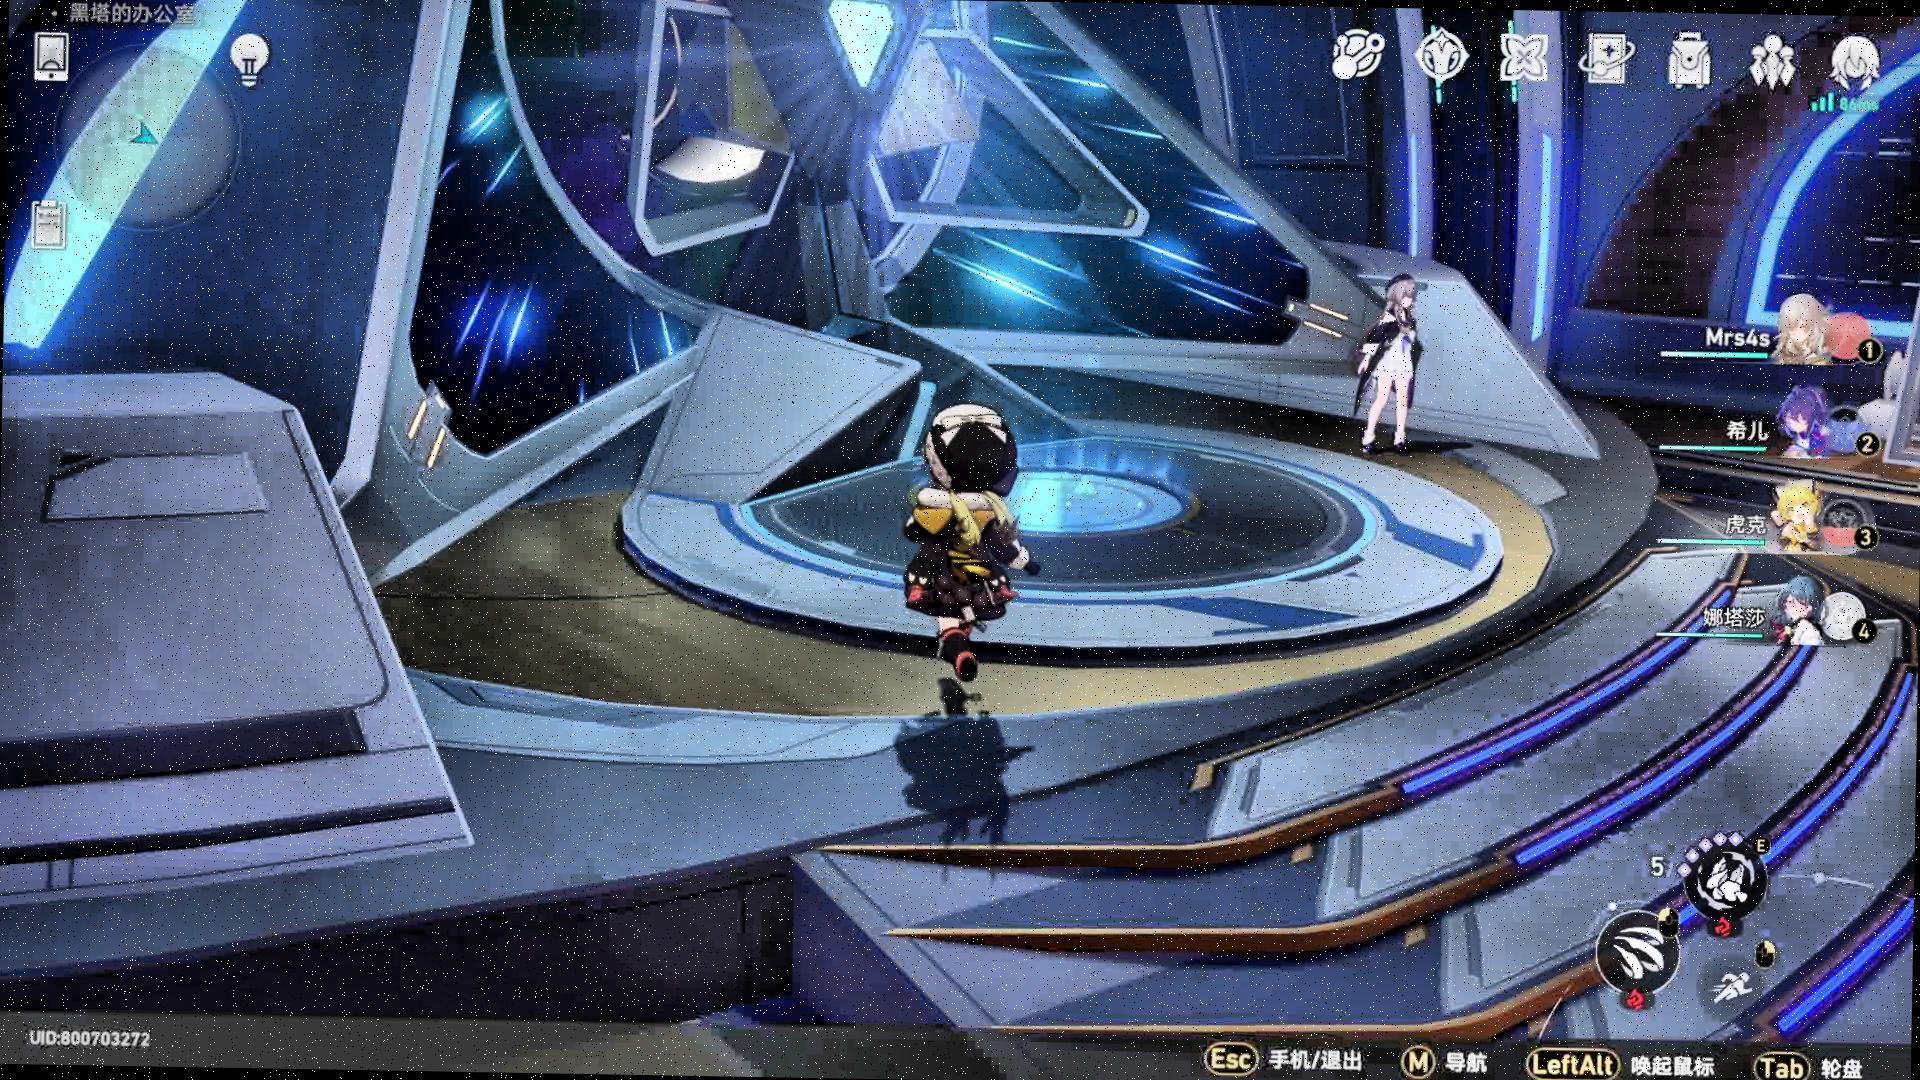Self: (905, 401, 1046, 687)
TeamMate: (1356, 270, 1424, 462)
